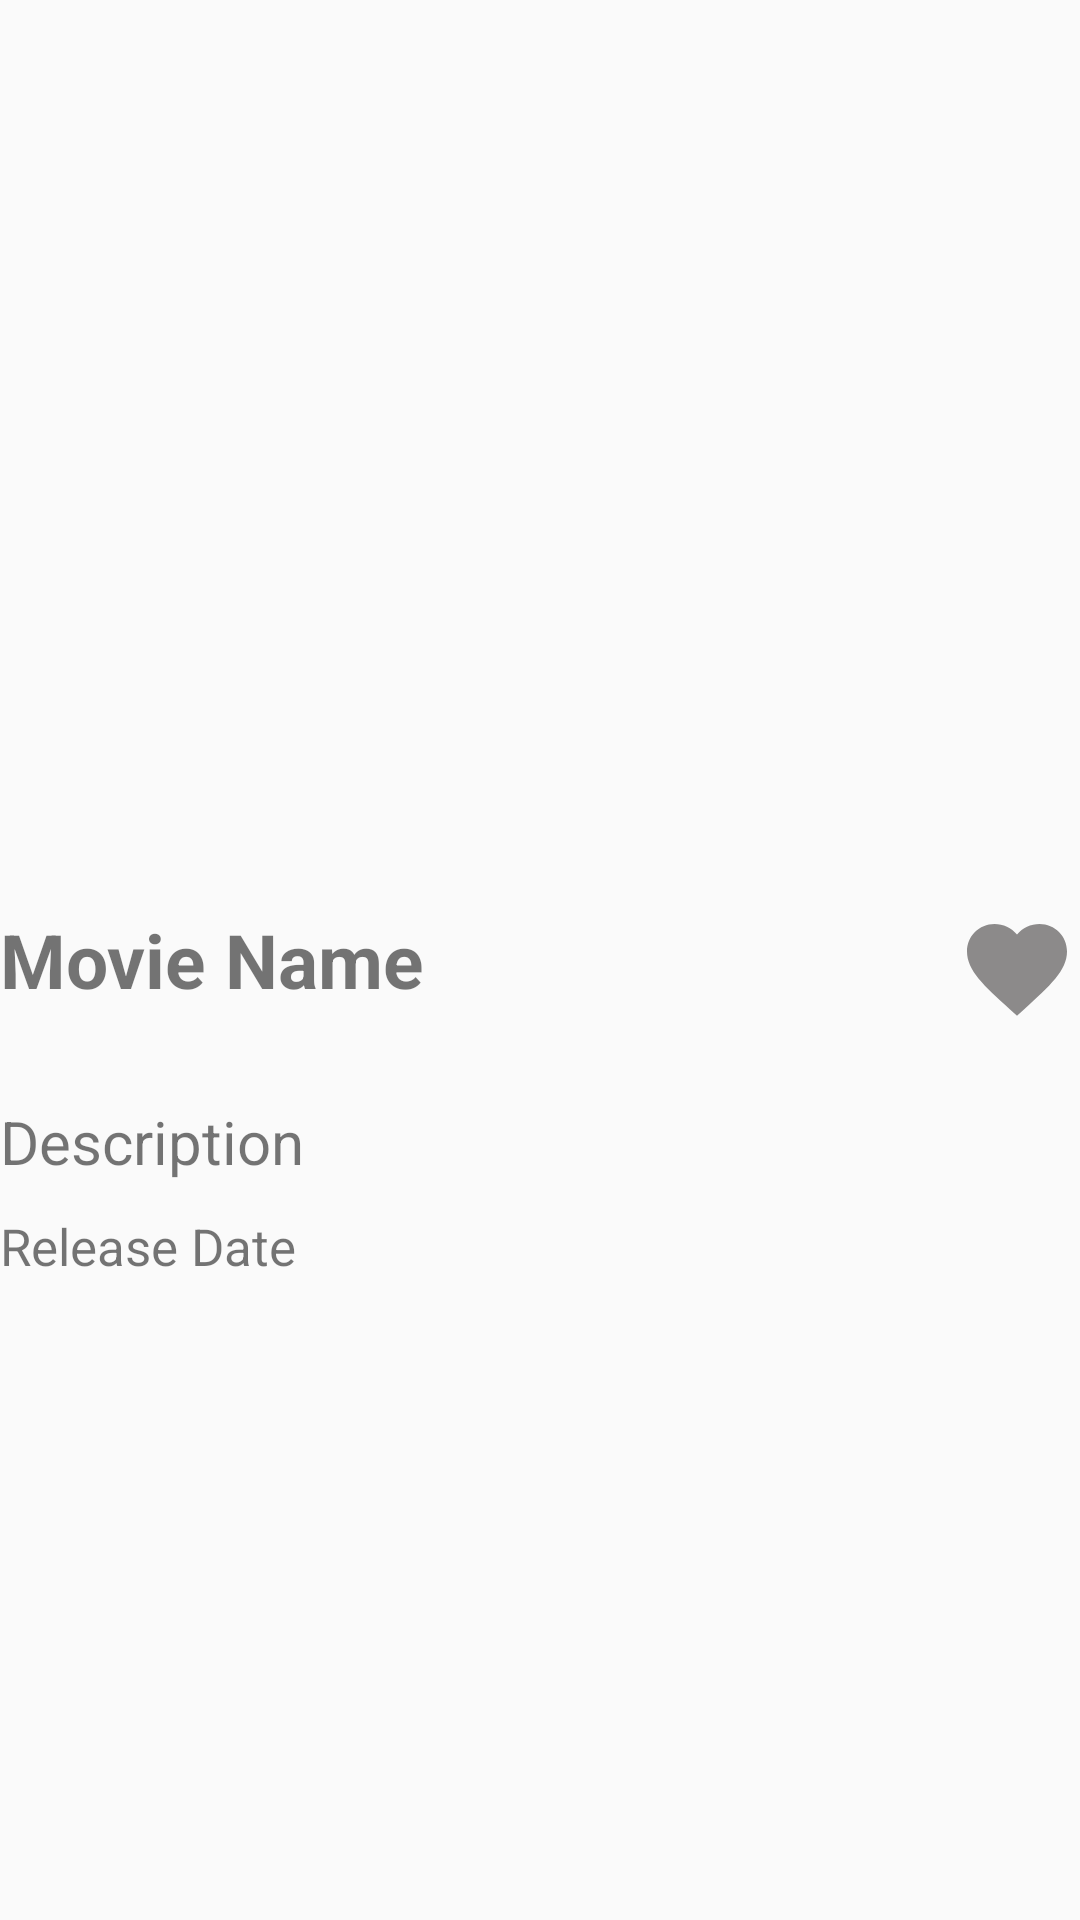

Icon bounding boxes for this 1080x1920 phone screenshot, format [x1=x1, y1=y1, x2=x2, y2=y2]:
favorite: [x1=967, y1=924, x2=1067, y2=1016]
